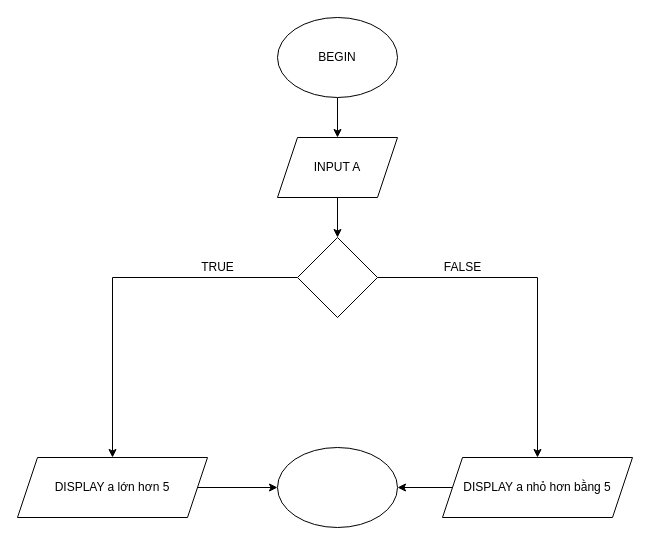
Some shapes in this 650 by 545 pixel diagram are drawn without their labels. Here are the shapes that lost their labels. From the top down, the box of each, then its label:
(296, 236, 378, 318): a > 5
(276, 446, 398, 528): END
